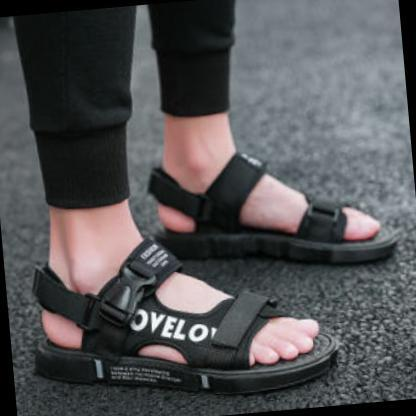no_safety-shoe: (22, 219, 350, 415), (123, 115, 398, 288)
